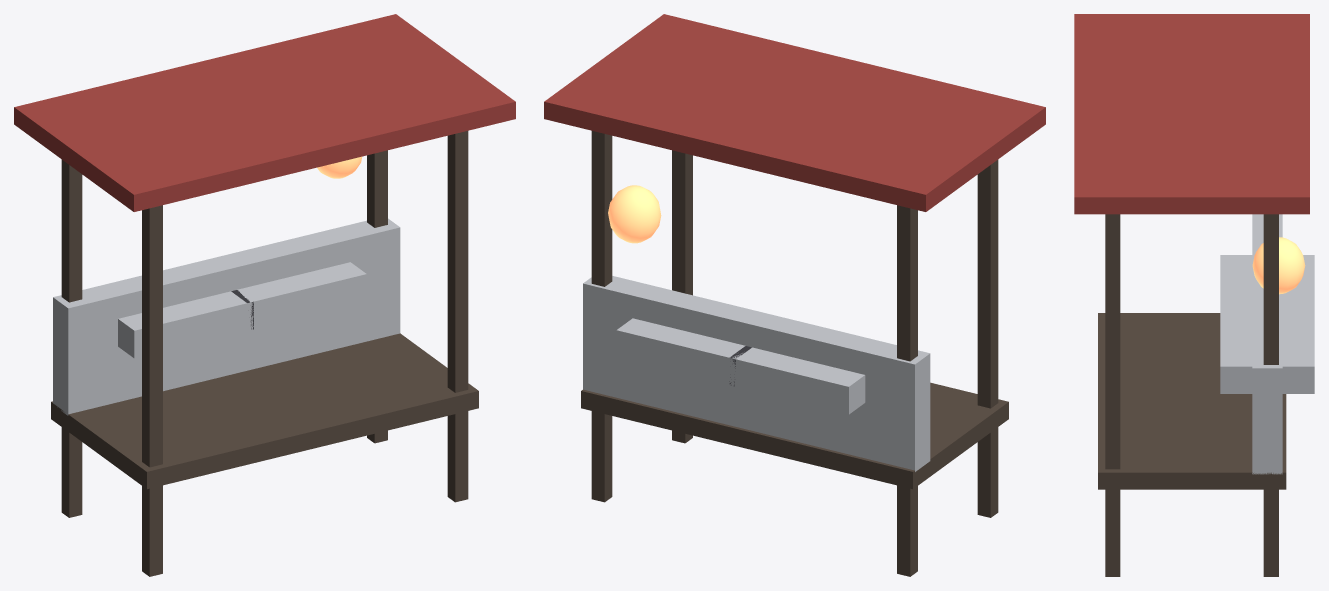
Rendered from prop_yatai_oden.glb.
3 renders of one model, left to right at view 1: azimuth 30°, elevation 25°; view 2: azimuth 150°, elevation 25°; view 3: azimuth 270°, elevation 25°, orthographic.
Visible parts, largest first — view 1: yatai_oden; view 2: yatai_oden; view 3: yatai_oden.
Part boxes in pixels (left/top/right/bottom): yatai_oden: left=14, top=14, right=515, bottom=576; yatai_oden: left=544, top=14, right=1045, bottom=576; yatai_oden: left=1074, top=14, right=1314, bottom=576.
Size of the model in its own units: 2.3 by 2.31 by 1.27.
